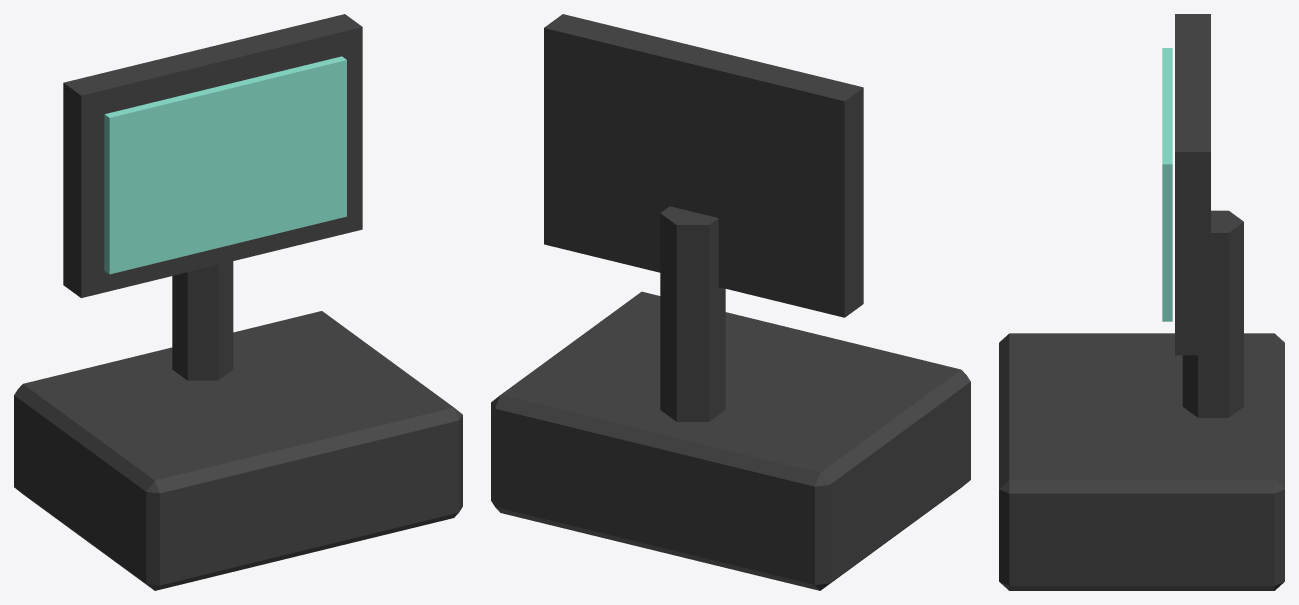
3 views of the same model, side by side, from view 1: azimuth 30°, elevation 25°; view 2: azimuth 150°, elevation 25°; view 3: azimuth 270°, elevation 25° (orthographic). The views are drawn at different scales.
Parts seen in each view (by area): view 1: Register base, Readout, Screen, Screen stem; view 2: Register base, Screen, Screen stem; view 3: Register base, Screen, Screen stem, Readout.
Part boxes in pixels (x1=…): Register base: x1=14, y1=311, x2=462, y2=590; Readout: x1=104, y1=56, x2=346, y2=274; Screen: x1=63, y1=14, x2=362, y2=298; Screen stem: x1=172, y1=261, x2=233, y2=380; Register base: x1=491, y1=291, x2=970, y2=590; Screen: x1=544, y1=14, x2=863, y2=317; Screen stem: x1=660, y1=206, x2=725, y2=421; Register base: x1=999, y1=333, x2=1284, y2=590; Screen: x1=1175, y1=14, x2=1210, y2=355; Screen stem: x1=1182, y1=210, x2=1243, y2=417; Readout: x1=1162, y1=48, x2=1172, y2=321.
Bounding box in the file's own units: 36 × 47 × 28.
